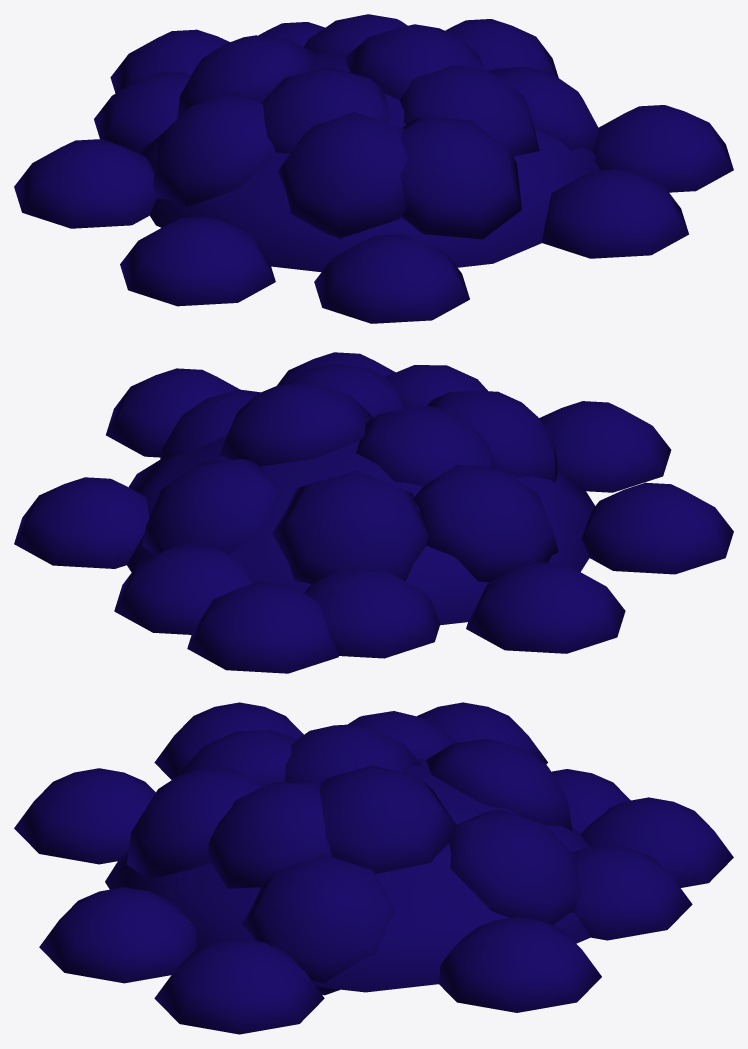
The model's file is groundMaterial.fbx.
The picture shows the model from 3 angles, top to bottom: view 1: azimuth 30°, elevation 25°; view 2: azimuth 150°, elevation 25°; view 3: azimuth 270°, elevation 25°; orthographic projection. The views are drawn at different scales.
Parts seen in each view (by area): view 1: CircleMaterial; view 2: CircleMaterial; view 3: CircleMaterial.
Part boxes in pixels (<box>): CircleMaterial: <box>14,14,733,323</box>; CircleMaterial: <box>14,352,733,673</box>; CircleMaterial: <box>14,702,733,1034</box>.
Bounding box in the file's own units: 7.9 × 1.69 × 7.81.
